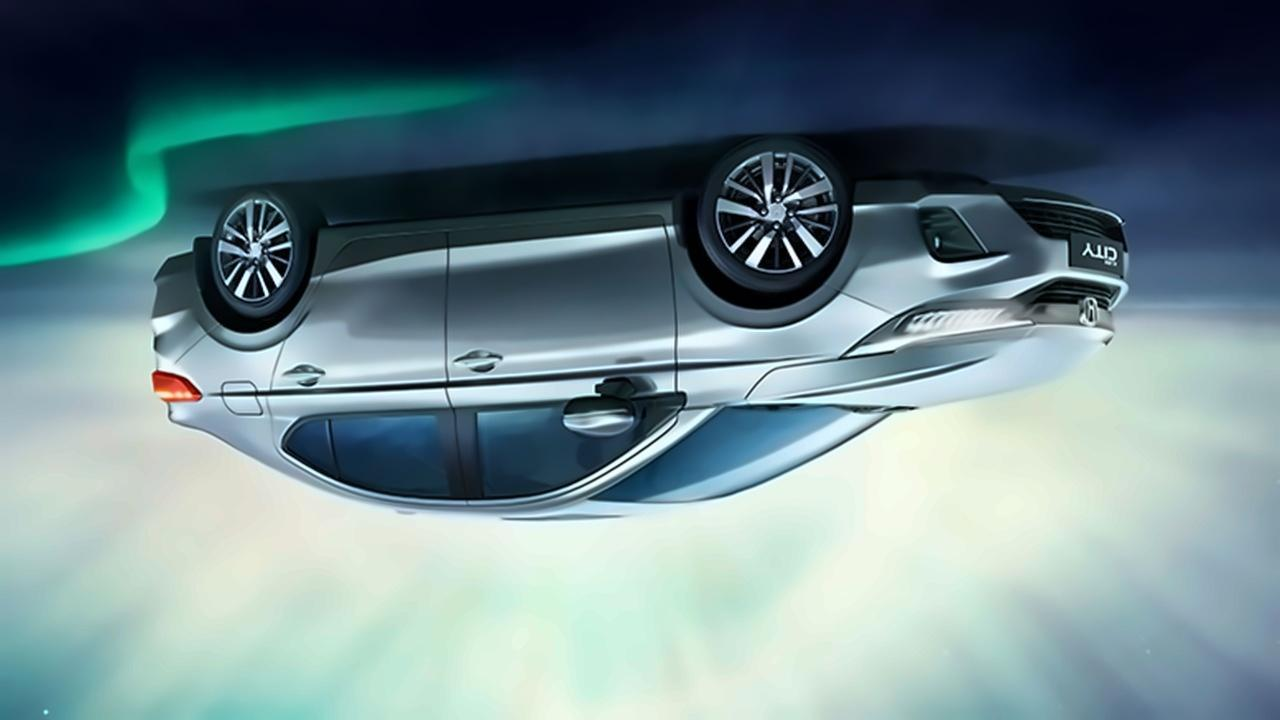Car hood: (744, 322, 1121, 411)
Fender - -F-L-: (662, 194, 894, 426)
Fender - -R-L-: (176, 227, 337, 394)
Front bumper: (823, 164, 1135, 312)
Passenger-s door - -F-L-: (447, 217, 680, 519)
Passenger-s door - -R-L-: (263, 227, 456, 517)
Rear bumper: (144, 246, 229, 377)
Rear light - -L-: (136, 366, 208, 408)
Side bumper - -L-: (310, 193, 680, 253)
Side mirror - -L-: (553, 373, 641, 447)
